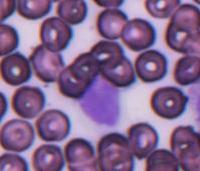L: (78, 71, 122, 129)
